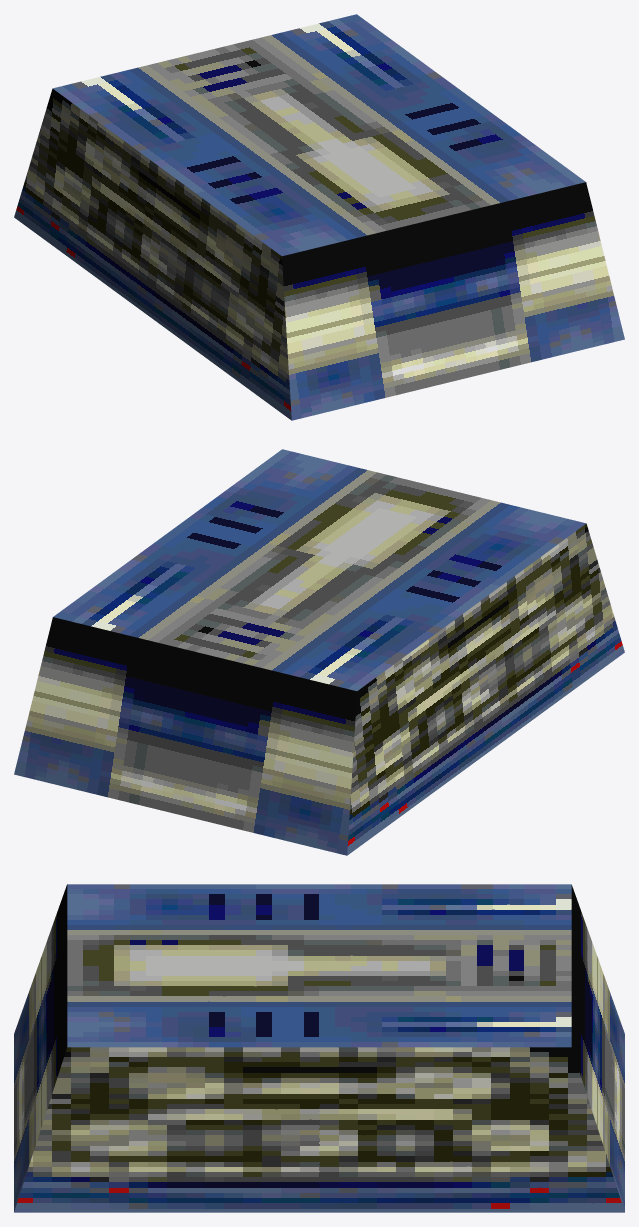
Rendered from GunTankY_Anim.glb.
The picture shows the model from 3 angles, top to bottom: view 1: azimuth 30°, elevation 25°; view 2: azimuth 150°, elevation 25°; view 3: azimuth 270°, elevation 25°; orthographic projection. The views are drawn at different scales.
Parts seen in each view (by area): view 1: GunTankY_Anim_part00; view 2: GunTankY_Anim_part00; view 3: GunTankY_Anim_part00.
Part boxes in pixels (x1,y1,x2,y2): GunTankY_Anim_part00: [14, 14, 624, 420]; GunTankY_Anim_part00: [14, 449, 624, 855]; GunTankY_Anim_part00: [14, 884, 624, 1212].
Bounding box in the file's own units: 7.94 × 3.26 × 11.46.
Materials: 3 (3 with a texture image).
